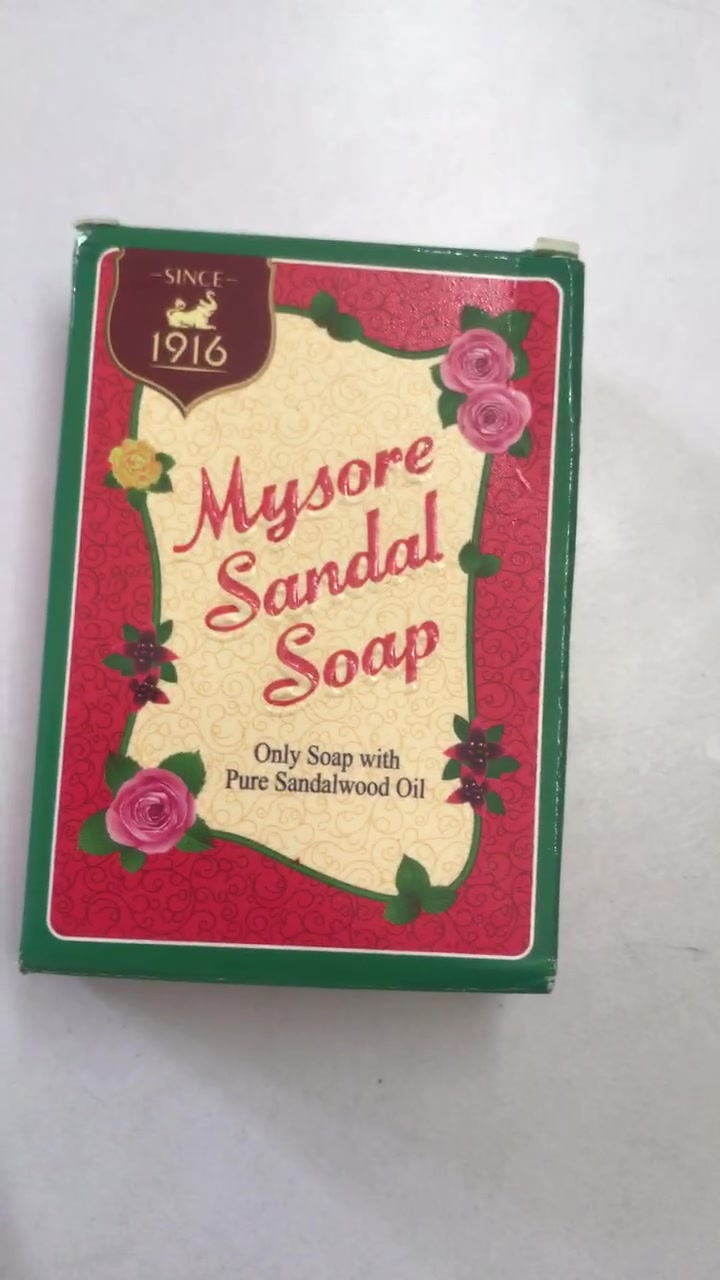mysore sandal soap: (33, 232, 573, 989)
